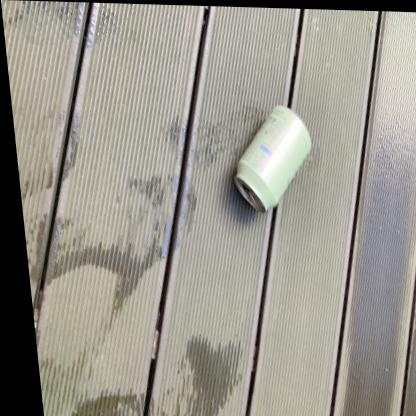trash: (235, 106, 310, 210)
